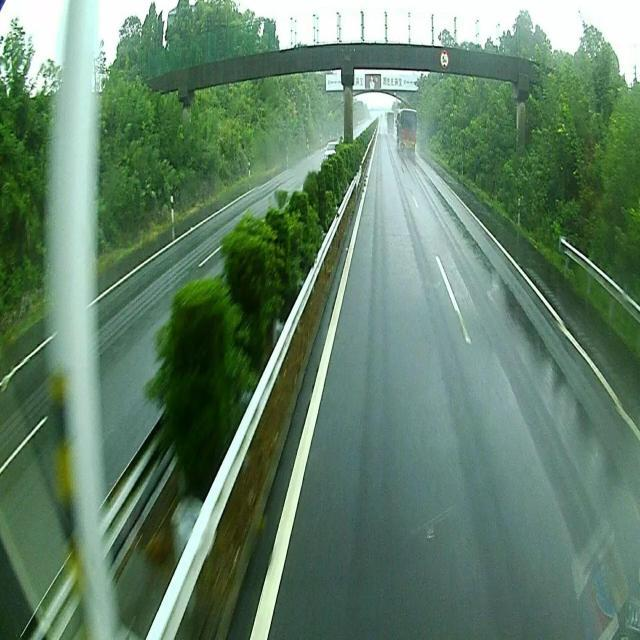car: (396, 109, 418, 148), (386, 106, 394, 132), (325, 138, 335, 158)
